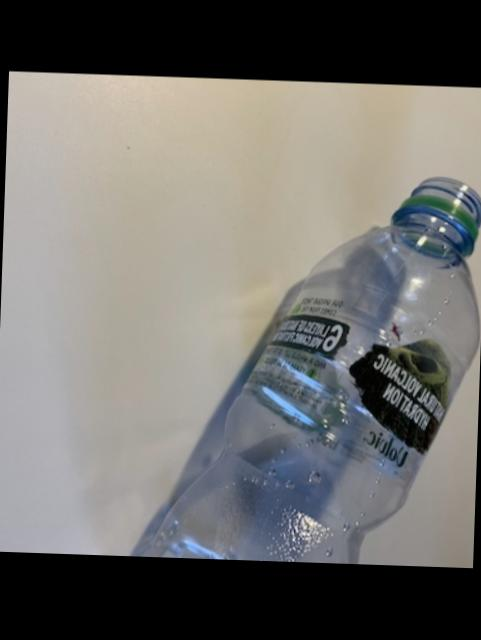plastic: (146, 180, 481, 565)
